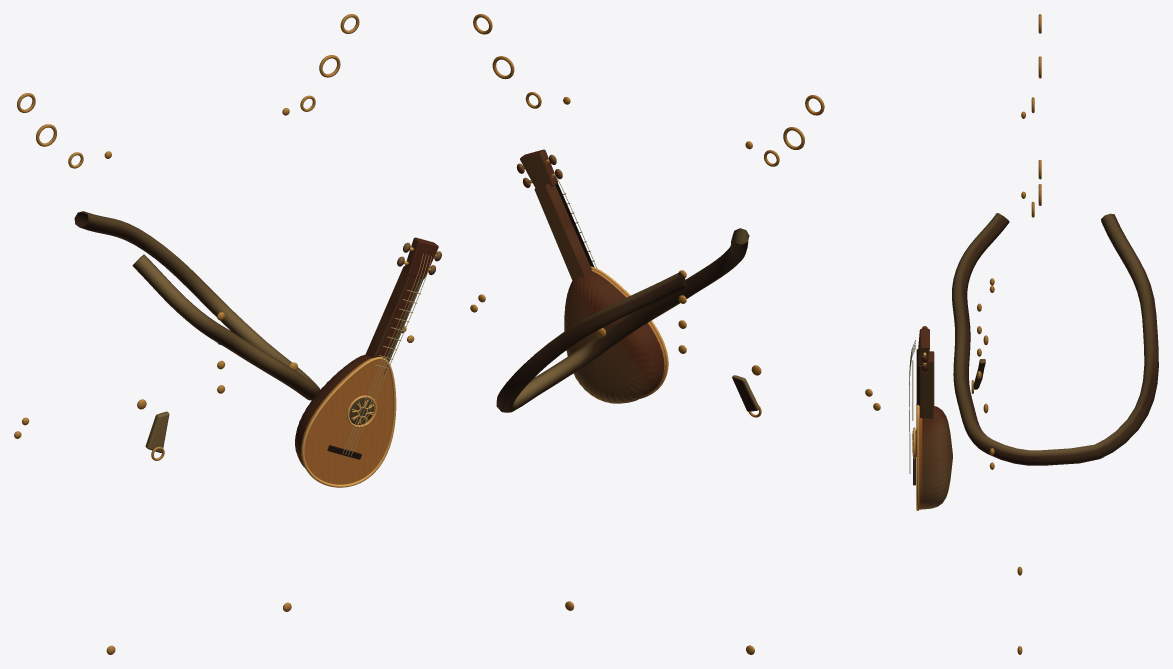
The model's file is 10_Accessories.fbx.
3 views of the same model, side by side, from view 1: azimuth 30°, elevation 25°; view 2: azimuth 150°, elevation 25°; view 3: azimuth 270°, elevation 25° (orthographic). The views are drawn at different scales.
Visible parts, largest first — view 1: Lute shoulder strap, Lute soundboard, Lute neck, Lute binding, Lute bowl, Lute strings, Lute peghead, Belt tab; view 2: Lute shoulder strap, Lute bowl, Lute neck, Lute peghead; view 3: Lute shoulder strap, Lute bowl, Lute neck, Lute binding, Lute peghead.
Boxes of the visible parts, x1,y1,x2,y2 form: Lute shoulder strap: [74, 211, 320, 400]; Lute soundboard: [301, 358, 393, 484]; Lute neck: [365, 266, 419, 358]; Lute binding: [301, 357, 396, 487]; Lute bowl: [295, 354, 371, 468]; Lute strings: [342, 254, 431, 456]; Lute peghead: [403, 237, 438, 278]; Belt tab: [145, 411, 169, 452]; Lute shoulder strap: [496, 228, 749, 412]; Lute bowl: [564, 271, 664, 403]; Lute neck: [534, 183, 591, 280]; Lute peghead: [520, 149, 557, 187]; Lute shoulder strap: [952, 213, 1158, 465]; Lute bowl: [922, 406, 952, 509]; Lute neck: [920, 351, 934, 419]; Lute binding: [916, 404, 919, 510]; Lute peghead: [918, 328, 929, 366].
Bounding box in the file's own units: 84.46 × 115 × 49.54.
Materials: 2 (2 with a texture image).
